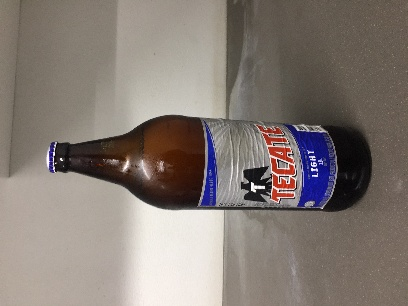TLB: (33, 81, 270, 155)
